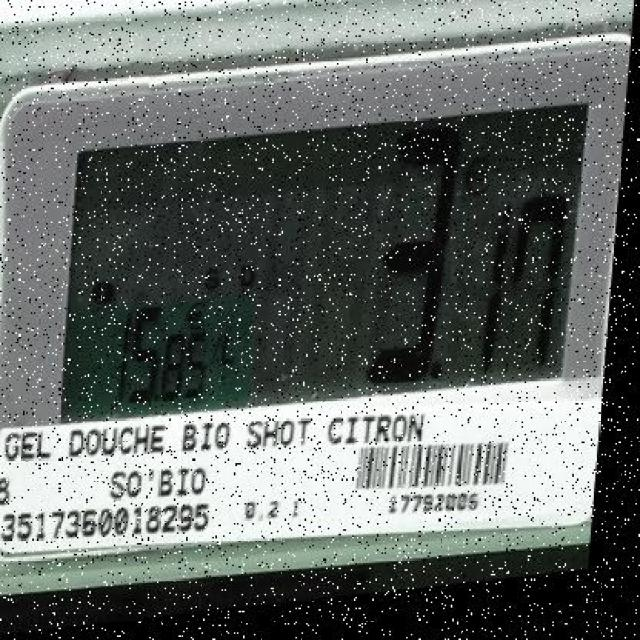display: (62, 103, 589, 424)
frame: (364, 135, 567, 391), (105, 292, 216, 413), (0, 500, 217, 545), (380, 488, 483, 515), (238, 495, 284, 528)
gauge: (0, 0, 640, 597)
